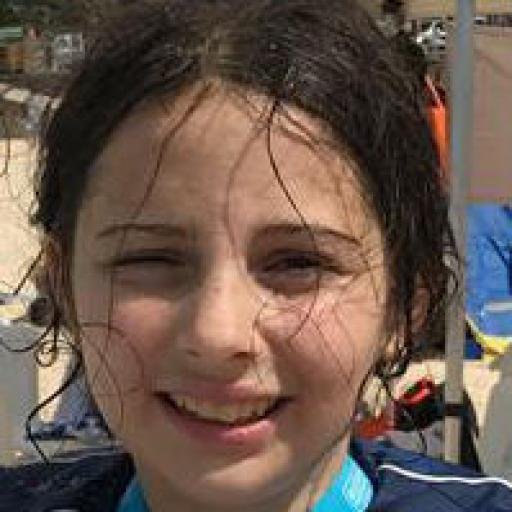Autism: (20, 12, 512, 496)
